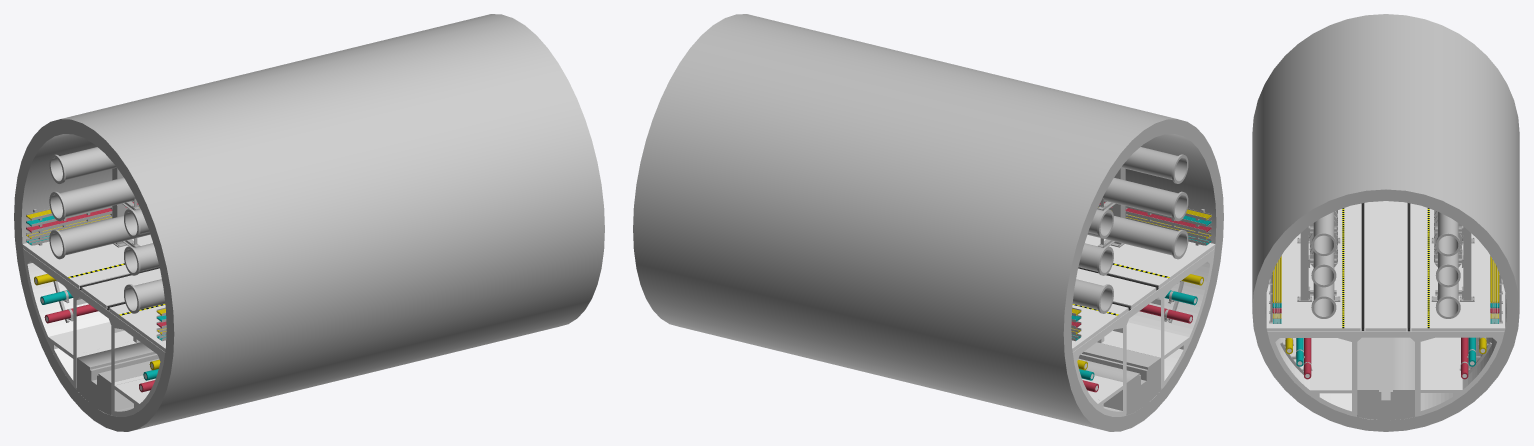
File: qishi.glb
3 renders of one model, left to right at view 1: azimuth 30°, elevation 25°; view 2: azimuth 150°, elevation 25°; view 3: azimuth 270°, elevation 25°, orthographic. The views are drawn at different scales.
Visible parts, largest first — view 1: 管廊壁, Circle073, 管廊地平, 排水沟, 管道031, 管道037, 管道025, Rectangle257, 管道040, 管道034; view 2: 管廊壁, Circle073, 管廊地平, 排水沟, 管道034, 管道040, 管道028, Rectangle258, 管道037, 管道031; view 3: 管廊壁, 管廊地平, Circle073, 排水沟, Rectangle257, Rectangle258, 管道026, 管道021, Rectangle717, Rectangle529, 管道038, 管道032 (+6 smaller).
Part boxes in pixels (box(x1,y1,x2,y2)): 管廊壁: box(14, 14, 604, 431); Circle073: box(23, 248, 164, 416); 管廊地平: box(22, 234, 165, 351); 排水沟: box(76, 342, 159, 415); 管道031: box(52, 177, 135, 217); 管道037: box(52, 215, 150, 255); 管道025: box(52, 147, 116, 180); Rectangle257: box(52, 326, 133, 358); 管道040: box(127, 279, 165, 310); 管道034: box(127, 243, 159, 272); 管廊壁: box(633, 14, 1223, 431); Circle073: box(1073, 248, 1214, 416); 管廊地平: box(1072, 235, 1215, 351); 排水沟: box(1078, 342, 1161, 415); 管道034: box(1102, 177, 1185, 217); 管道040: box(1087, 216, 1185, 255); 管道028: box(1121, 147, 1185, 180); Rectangle258: box(1104, 326, 1184, 358); 管道037: box(1072, 279, 1110, 310); 管道031: box(1078, 243, 1110, 272); 管廊壁: box(1252, 14, 1519, 431); 管廊地平: box(1266, 201, 1505, 331); Circle073: box(1267, 331, 1504, 416); 排水沟: box(1357, 337, 1415, 420); Rectangle257: box(1420, 337, 1455, 392); Rectangle258: box(1317, 338, 1351, 393); 管道026: box(1313, 212, 1334, 253); 管道021: box(1438, 212, 1458, 253); Rectangle717: box(1463, 227, 1471, 300); Rectangle529: box(1300, 227, 1308, 300); 管道038: box(1313, 282, 1334, 316); 管道032: box(1313, 251, 1334, 284).
Size of the model in its own units: 18 by 11.6 by 11.6.
12 materials, 1 textured.
